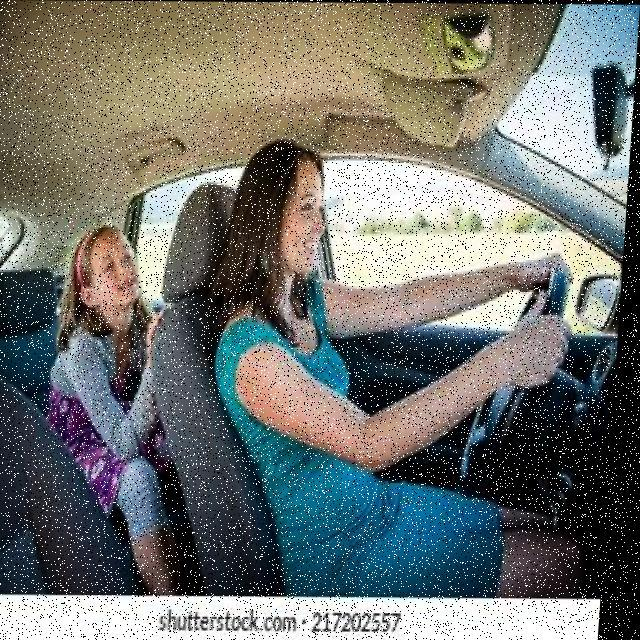noSeatbelt: (242, 271, 375, 541), (58, 306, 158, 496)
